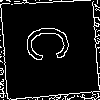C: (25, 23, 80, 64)
